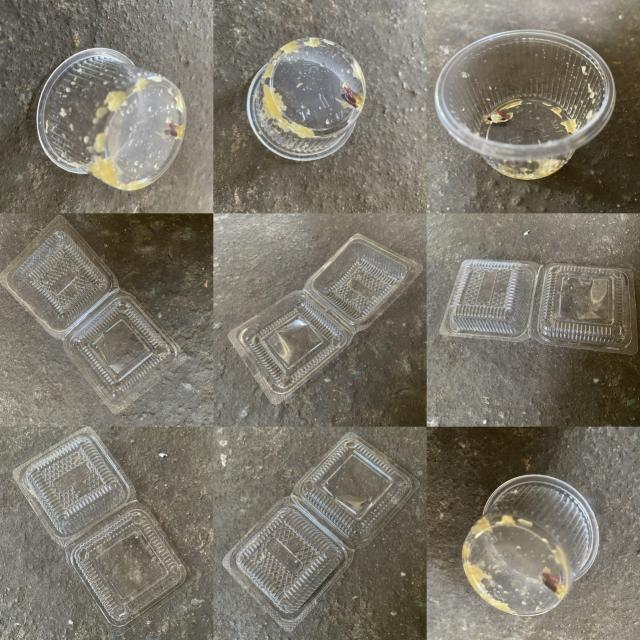Single-Use-Plastic: (222, 432, 419, 630), (0, 216, 186, 412), (12, 428, 189, 632), (228, 234, 422, 404), (435, 30, 615, 179), (38, 49, 186, 189), (462, 475, 599, 616), (440, 260, 638, 354), (248, 38, 365, 160)
